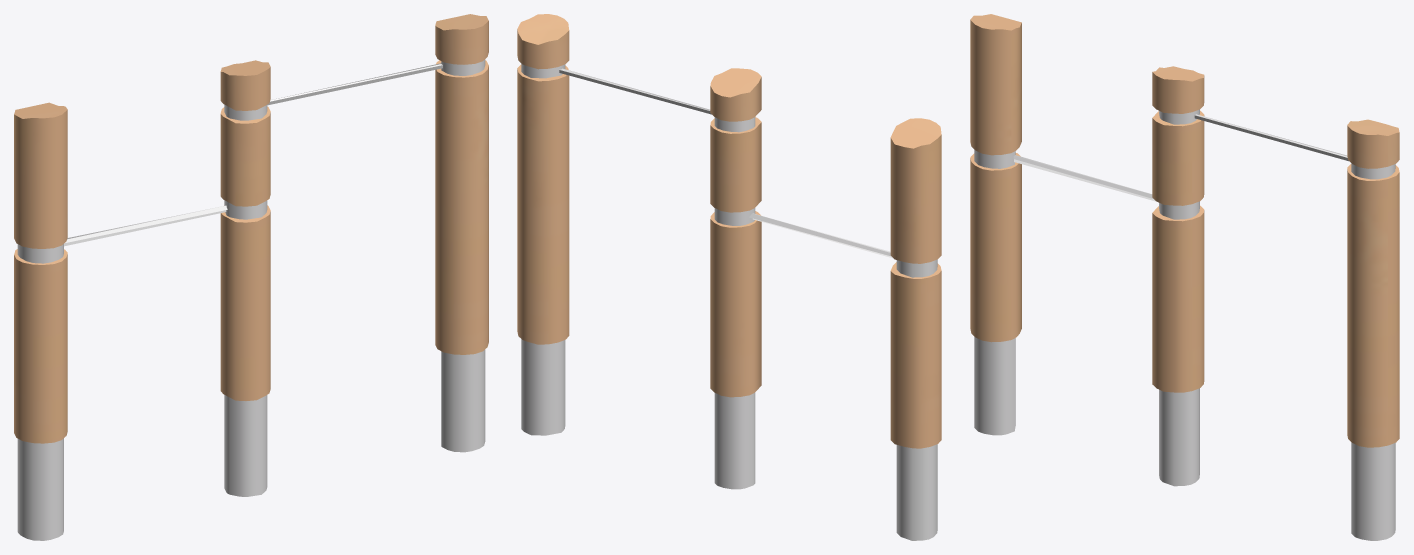
Rendered from турник6.glb.
The picture shows the model from 3 angles, left to right: view 1: azimuth 30°, elevation 25°; view 2: azimuth 150°, elevation 25°; view 3: azimuth 330°, elevation 25°; orthographic projection. The views are drawn at different scales.
Visible parts, largest first — view 1: Mesh_0.002; view 2: Mesh_0.002; view 3: Mesh_0.002.
Boxes of the visible parts, x1,y1,x2,y2 form: Mesh_0.002: (14, 14, 488, 540); Mesh_0.002: (517, 14, 941, 540); Mesh_0.002: (970, 14, 1399, 540).
Bounding box in the file's own units: 2.19 × 1.95 × 0.3408.
Materials: 1 (1 with a texture image).
